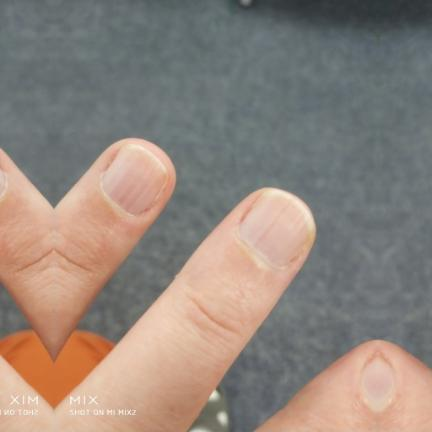Nail: (238, 188, 316, 268), (101, 144, 169, 216), (361, 353, 377, 405), (379, 353, 395, 405), (0, 167, 7, 195)
